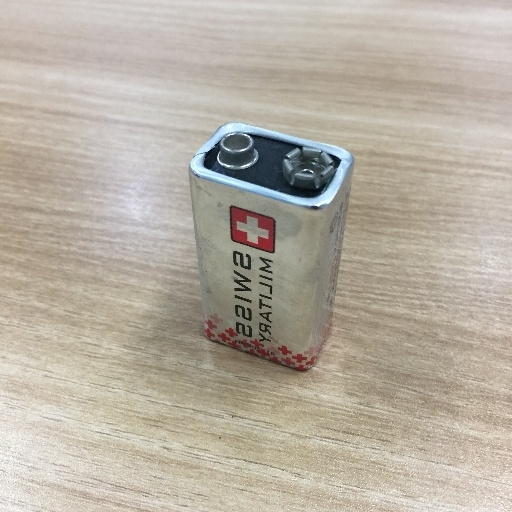Battery_3: (172, 103, 378, 403)
